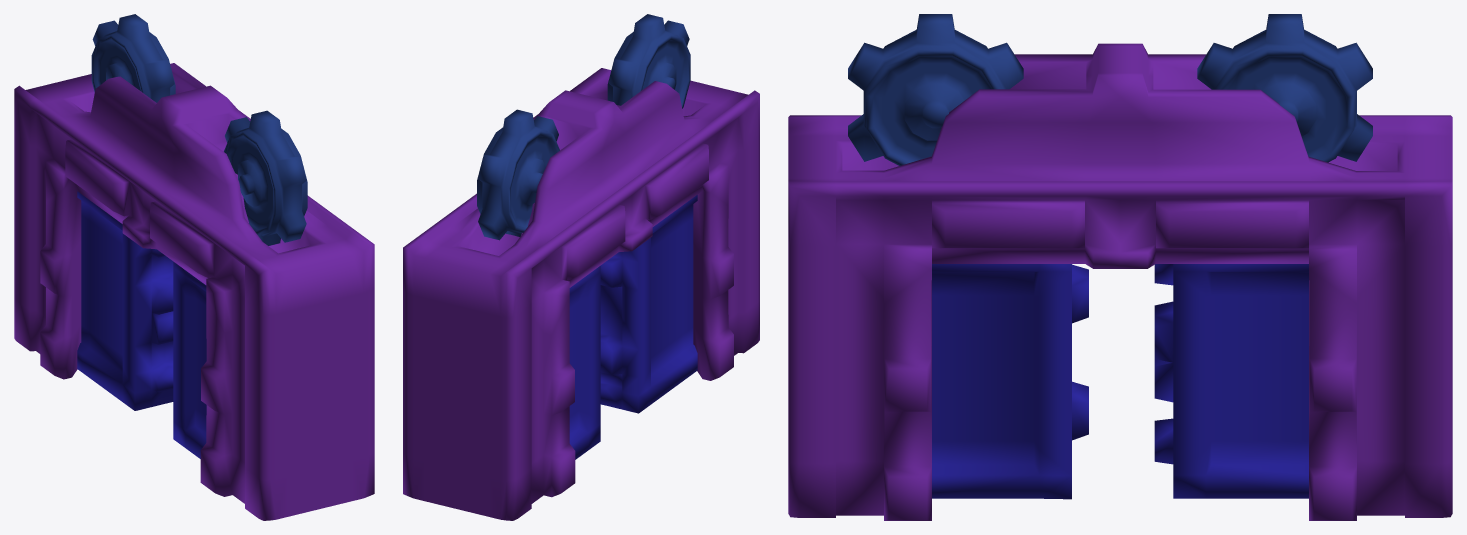
Rendered from Mega_Door2.obj.
The picture shows the model from 3 angles, left to right: view 1: azimuth 30°, elevation 25°; view 2: azimuth 150°, elevation 25°; view 3: azimuth 270°, elevation 25°; orthographic projection. The views are drawn at different scales.
Parts seen in each view (by area): view 1: _unwrap_BEEG_DOOR, Door_L, COG_R, Door_R, COG_L; view 2: _unwrap_BEEG_DOOR, Door_R, COG_L, Door_L, COG_R; view 3: _unwrap_BEEG_DOOR, Door_L, Door_R, COG_R, COG_L.
Boxes of the visible parts, x1=… form: _unwrap_BEEG_DOOR: x1=14, y1=63, x2=374, y2=520; Door_L: x1=77, y1=191, x2=173, y2=410; COG_R: x1=224, y1=110, x2=307, y2=245; Door_R: x1=173, y1=261, x2=206, y2=458; COG_L: x1=91, y1=14, x2=175, y2=102; _unwrap_BEEG_DOOR: x1=403, y1=68, x2=759, y2=520; Door_R: x1=600, y1=195, x2=697, y2=413; COG_L: x1=477, y1=109, x2=559, y2=240; Door_L: x1=569, y1=266, x2=600, y2=459; COG_R: x1=607, y1=14, x2=690, y2=108; _unwrap_BEEG_DOOR: x1=788, y1=43, x2=1452, y2=520; Door_L: x1=1154, y1=264, x2=1308, y2=498; Door_R: x1=932, y1=264, x2=1088, y2=499; COG_R: x1=848, y1=14, x2=1023, y2=165; COG_L: x1=1197, y1=14, x2=1372, y2=162.
Size of the model in its own units: 153 by 383 by 497.
